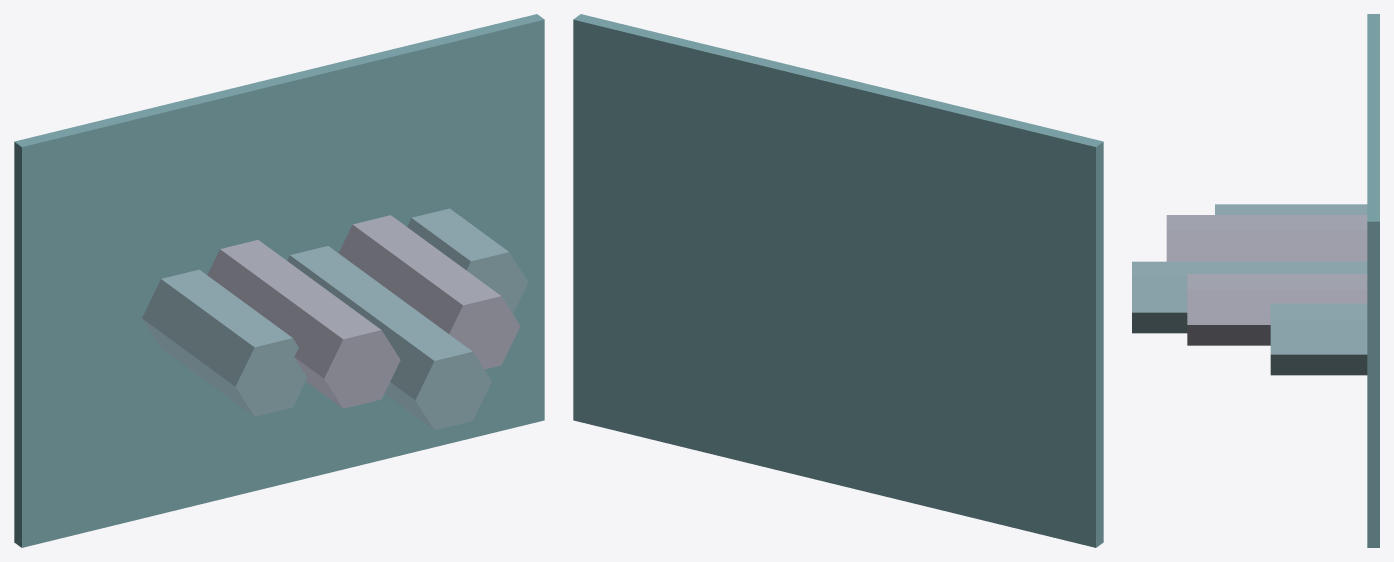
The picture shows the model from 3 angles, left to right: view 1: azimuth 30°, elevation 25°; view 2: azimuth 150°, elevation 25°; view 3: azimuth 270°, elevation 25°; orthographic projection. The views are drawn at different scales.
Parts seen in each view (by area): view 1: section_00, section_02, section_01, section_03, section_04, section_05; view 2: section_00; view 3: section_02, section_04, section_05, section_00, section_03, section_01.
Boxes of the visible parts, box(x1,y1,x2,y2) form: section_00: box(14, 14, 544, 547); section_02: box(207, 240, 400, 408); section_01: box(142, 269, 307, 416); section_03: box(287, 246, 491, 430); section_04: box(338, 215, 520, 369); section_05: box(407, 208, 528, 313); section_00: box(573, 14, 1103, 547); section_02: box(1166, 215, 1367, 261); section_04: box(1187, 274, 1367, 345); section_05: box(1270, 303, 1367, 375); section_00: box(1367, 14, 1379, 547); section_03: box(1132, 261, 1367, 333); section_01: box(1215, 204, 1367, 214).
Size of the model in its own units: 7.1 by 5.2 by 3.58.
